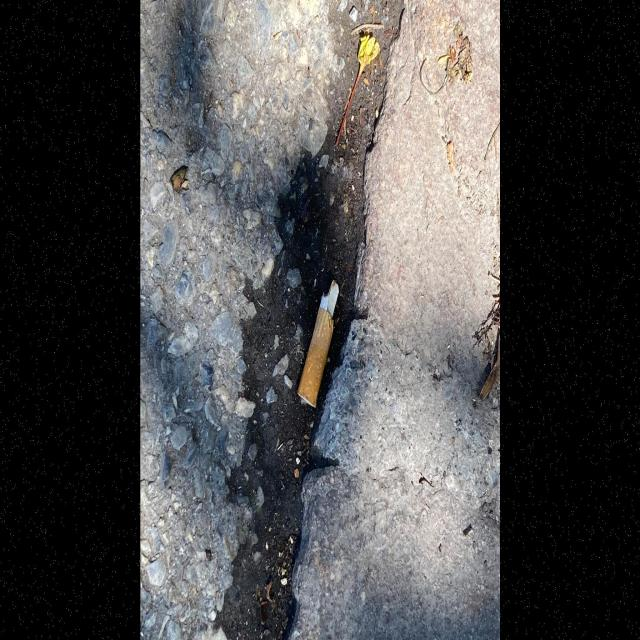other waste: (296, 279, 339, 409)
